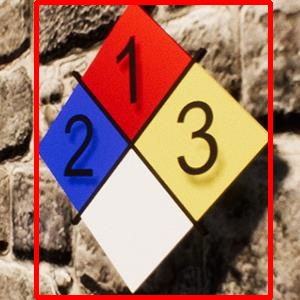nfpa: (36, 2, 270, 297)
